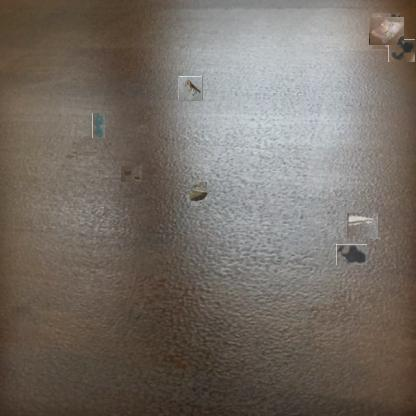dirty: (370, 15, 402, 48), (348, 213, 379, 239), (178, 76, 203, 101), (388, 39, 415, 62), (189, 184, 209, 204), (121, 166, 144, 182)
liquid: (336, 244, 367, 265), (92, 112, 105, 138)
